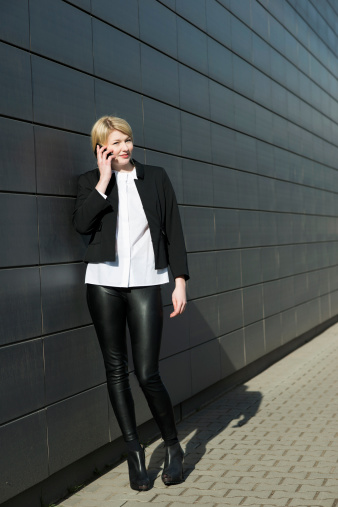em pe: (75, 91, 194, 483)
